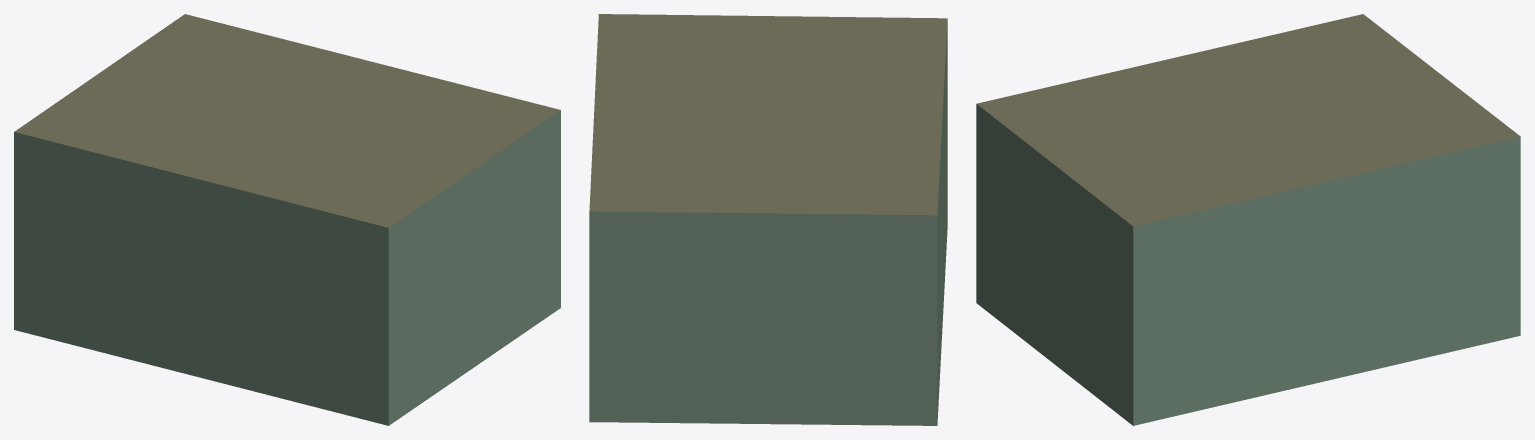
The model's file is nyc-1090909-0.glb.
3 renders of one model, left to right at view 1: azimuth 30°, elevation 25°; view 2: azimuth 150°, elevation 25°; view 3: azimuth 270°, elevation 25°, orthographic. The views are drawn at different scales.
Parts seen in each view (by area): view 1: nyc-1090909-0; view 2: nyc-1090909-0; view 3: nyc-1090909-0.
Part boxes in pixels (left/top/right/bottom): nyc-1090909-0: left=14, top=14, right=560, bottom=425; nyc-1090909-0: left=589, top=14, right=947, bottom=425; nyc-1090909-0: left=976, top=14, right=1520, bottom=425.
Size of the model in its own units: 9.05 by 3.96 by 9.79.
